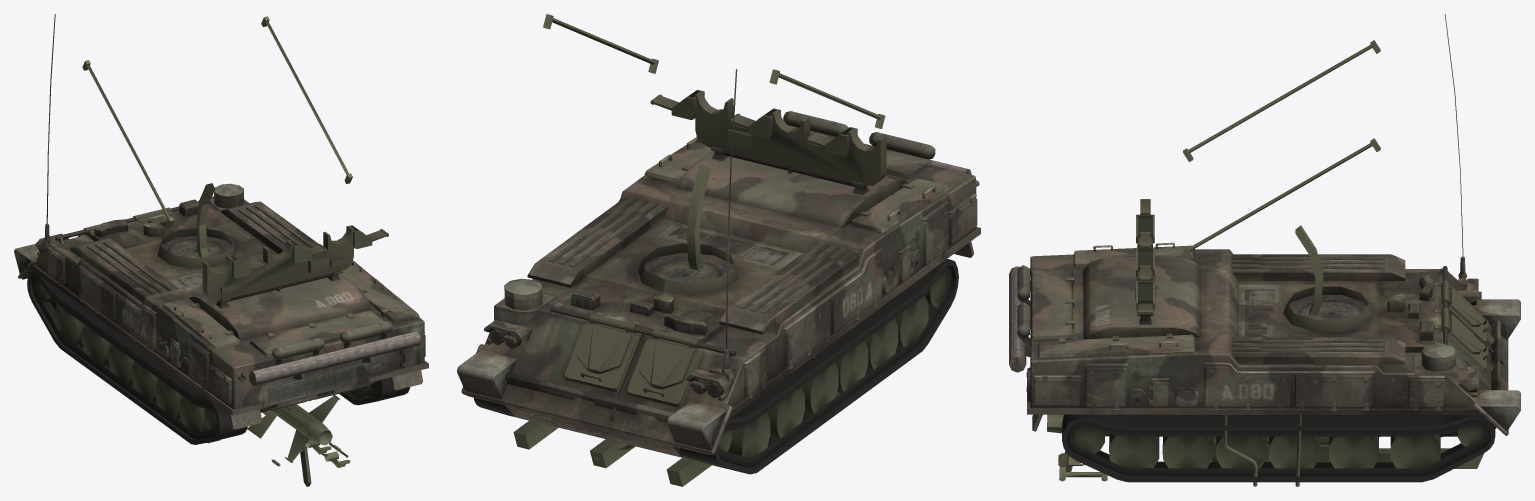
Rendered from kub.glb.
3 renders of one model, left to right at view 1: azimuth 30°, elevation 25°; view 2: azimuth 150°, elevation 25°; view 3: azimuth 270°, elevation 25°, orthographic. The views are drawn at different scales.
Parts seen in each view (by area): view 1: body|Material__26, body|Material__30, body|Material__31, body|Material__29, missile|Material__25 (×2), body|Material__25, body|Material__32, body|Material__36; view 2: body|Material__26, body|Material__30, body|Material__31, body|Material__29, body|Material__33, body|Material__34, body|Material__25, cradle|Material__25, body|Material__32, body|Material__36; view 3: body|Material__26, body|Material__30, body|Material__29, body|Material__25, body|Material__31, body|Material__32, body|Material__33, cradle|Material__25, body|Material__34, body|Material__36.
Boxes of the visible parts, <box> form: body|Material__26: <box>14,14,428,429</box>; body|Material__30: <box>27,271,410,444</box>; body|Material__31: <box>202,225,388,301</box>; body|Material__29: <box>54,303,373,432</box>; missile|Material__25 (×2): <box>207,395,350,467</box>; body|Material__25: <box>82,16,352,257</box>; body|Material__32: <box>157,228,236,268</box>; body|Material__36: <box>35,281,380,429</box>; body|Material__26: <box>457,69,980,457</box>; body|Material__30: <box>474,259,958,474</box>; body|Material__31: <box>650,89,886,186</box>; body|Material__29: <box>728,295,928,457</box>; body|Material__33: <box>564,314,639,391</box>; body|Material__34: <box>627,329,701,407</box>; body|Material__25: <box>543,14,885,270</box>; cradle|Material__25: <box>513,326,856,486</box>; body|Material__32: <box>638,243,738,295</box>; body|Material__36: <box>719,273,948,451</box>; body|Material__26: <box>1009,14,1520,437</box>; body|Material__30: <box>1062,414,1495,482</box>; body|Material__29: <box>1109,434,1440,468</box>; body|Material__25: <box>1183,40,1380,315</box>; body|Material__31: <box>1135,199,1155,318</box>; body|Material__32: <box>1283,286,1372,331</box>; body|Material__33: <box>1441,307,1488,372</box>; cradle|Material__25: <box>1223,415,1483,486</box>; body|Material__34: <box>1441,280,1488,342</box>; body|Material__36: <box>1074,426,1482,453</box>.
Size of the model in its own units: 3.53 by 6 by 6.71.
Materials: 17 (4 with a texture image).
